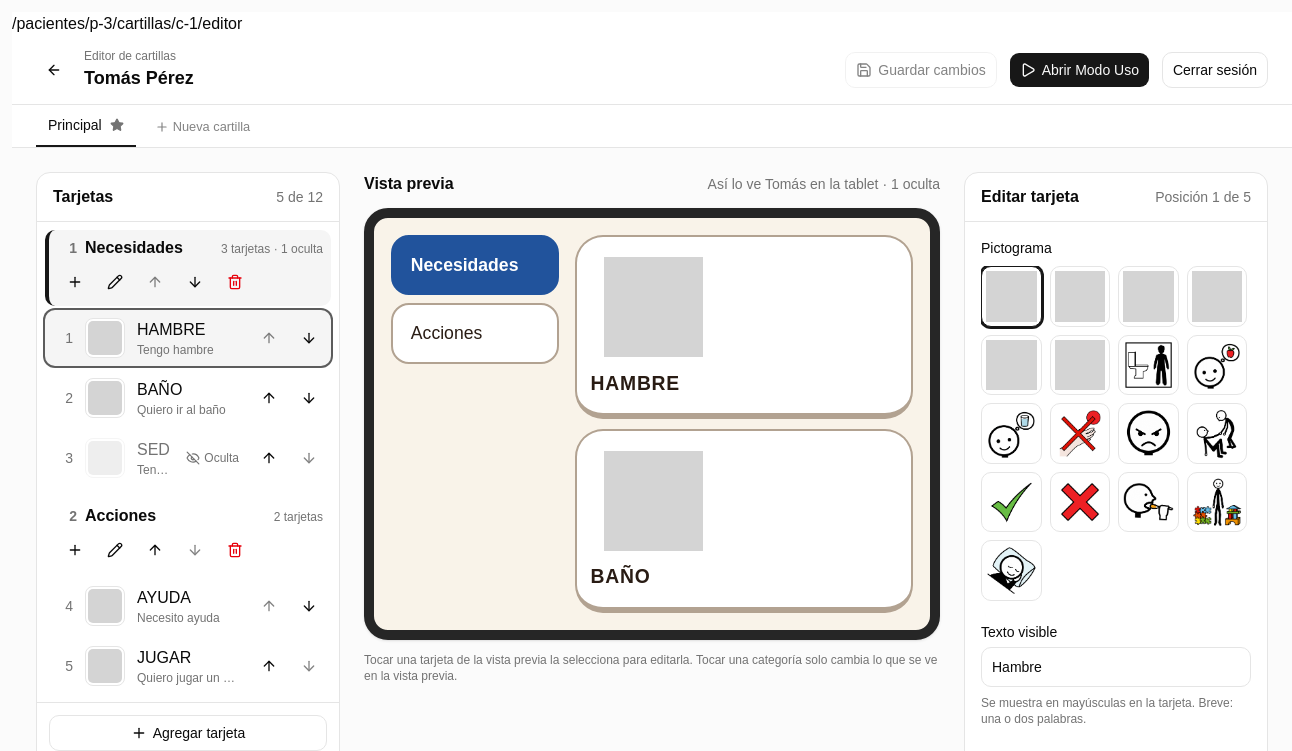
Scenario: BoardEditorPage category headers › makes the header highlight follow the new-card form category while it is open
Expected: the heading "Tomás Pérez" is shown, [84,64,194,92]
Click the button named "Agregar tarjeta en Acciones" at (75, 550), box [57,532,93,568]
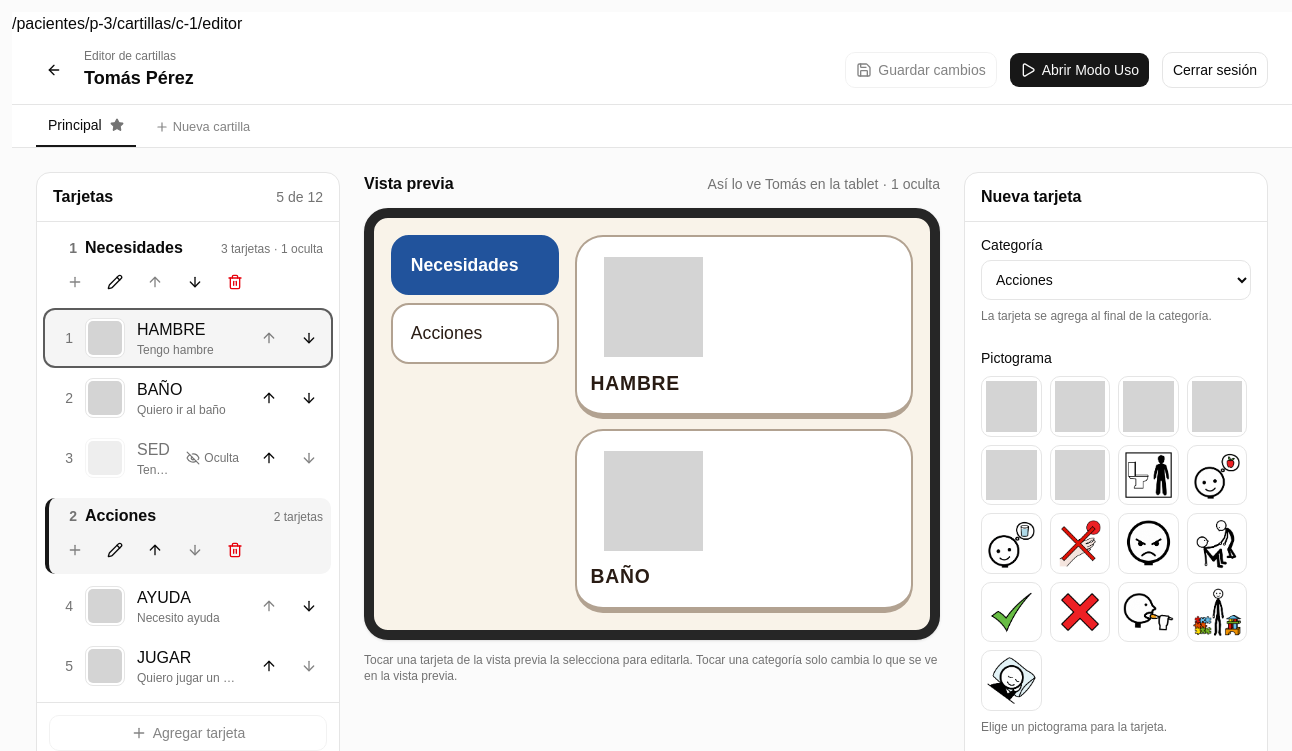
Now the heading "Nueva tarjeta" is shown, box [981,185,1082,209]
